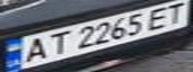2: (75, 22, 100, 51), (93, 18, 115, 46)
5: (124, 10, 151, 37)
6: (109, 15, 133, 42)
A: (15, 34, 54, 64)
E: (142, 3, 178, 32)
T: (39, 29, 72, 57), (160, 1, 193, 26)
